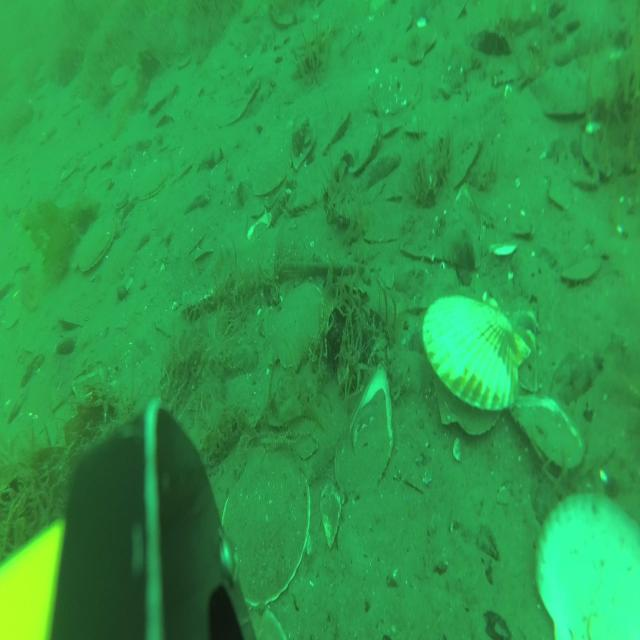scallop: (422, 286, 532, 446), (266, 280, 328, 379), (372, 64, 424, 123), (77, 215, 115, 272), (249, 152, 293, 198), (394, 24, 437, 70), (559, 251, 603, 290), (347, 124, 382, 173), (135, 158, 171, 205), (322, 110, 353, 156), (148, 81, 178, 119), (404, 106, 429, 140), (376, 111, 397, 137), (114, 187, 130, 212)
